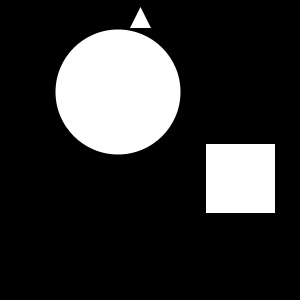circle: (206, 144, 275, 213)
rectangle: (55, 29, 180, 154)
triangle: (130, 7, 151, 28)
